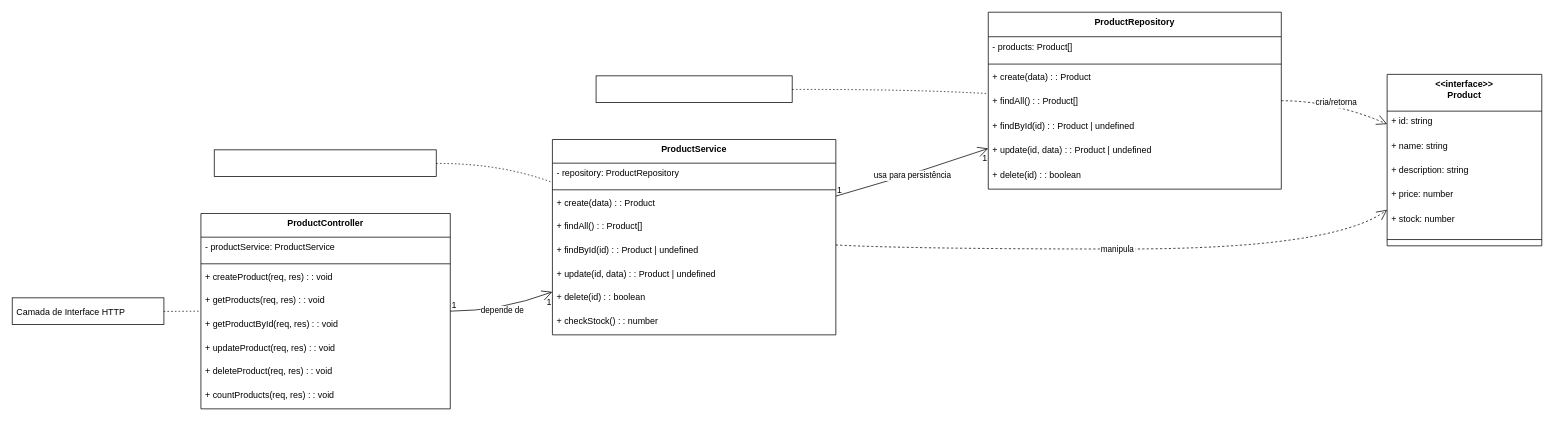
Image size: 1554x421. Some labels were removed from this diagram. The box of each missing label's shape, as (x1, y1, x2, y2) in pixels:
Camada de Lógica de Negócio (Domínio): (213, 149, 436, 176)
Padrão Repository (Acesso a Dados): (595, 75, 792, 102)
